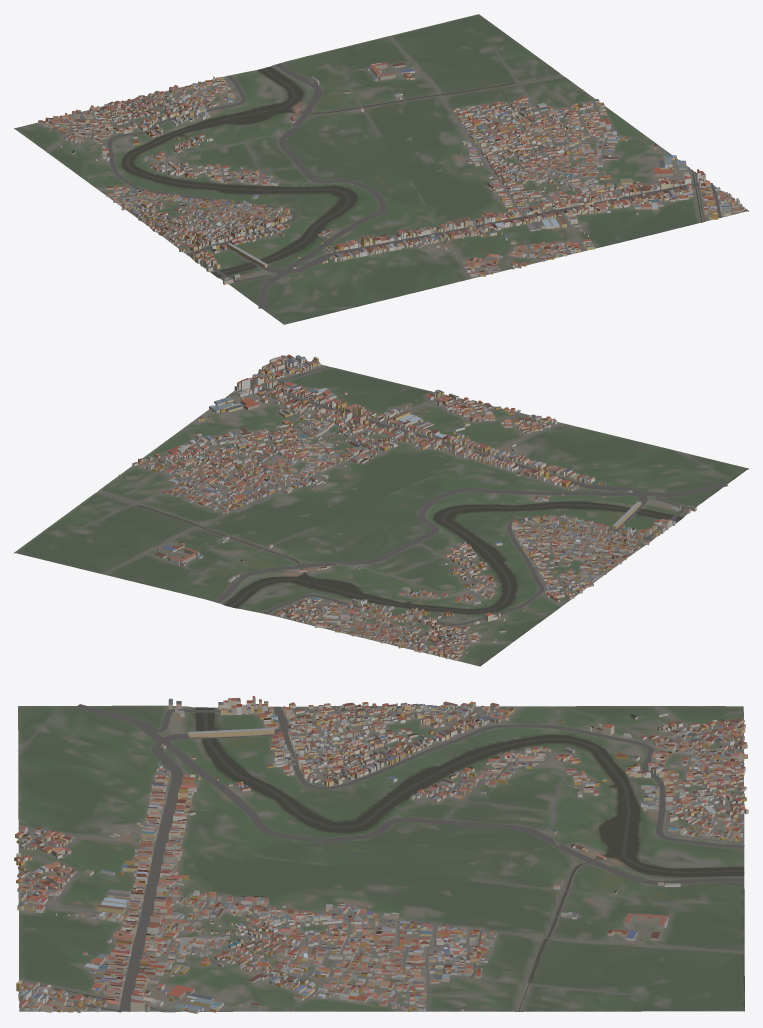
3 renders of one model, top to bottom at view 1: azimuth 30°, elevation 25°; view 2: azimuth 150°, elevation 25°; view 3: azimuth 270°, elevation 25°, orthographic. The views are drawn at different scales.
Parts seen in each view (by area): view 1: ground, buildings, roads, water; view 2: ground, buildings, roads, water; view 3: ground, buildings, roads, water.
Boxes of the visible parts, x1,y1,x2,y2 form: ground: (14, 14, 748, 324); buildings: (38, 62, 745, 284); roads: (35, 36, 740, 311); water: (122, 67, 702, 277); ground: (14, 355, 748, 666); buildings: (118, 354, 696, 660); roads: (81, 363, 727, 661); water: (98, 366, 682, 614); ground: (18, 705, 744, 1012); buildings: (14, 696, 748, 1013); roads: (18, 704, 744, 1012); water: (23, 707, 744, 1011).
Size of the model in its own units: 1418 by 34.8 by 1420.
